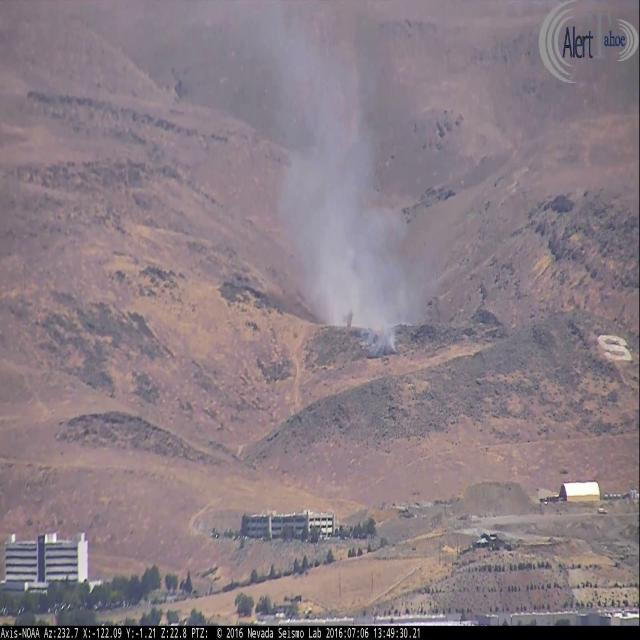smoke: (256, 7, 454, 371)
